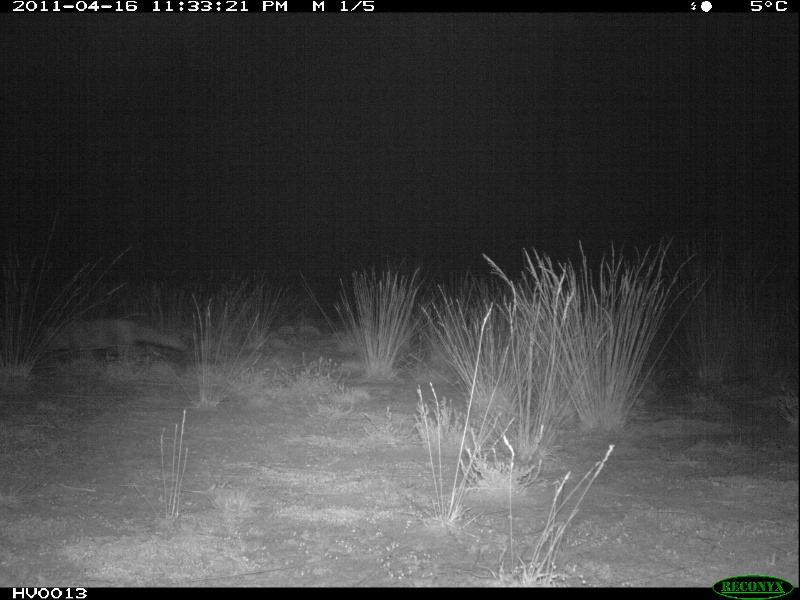fox: (41, 313, 192, 367)
